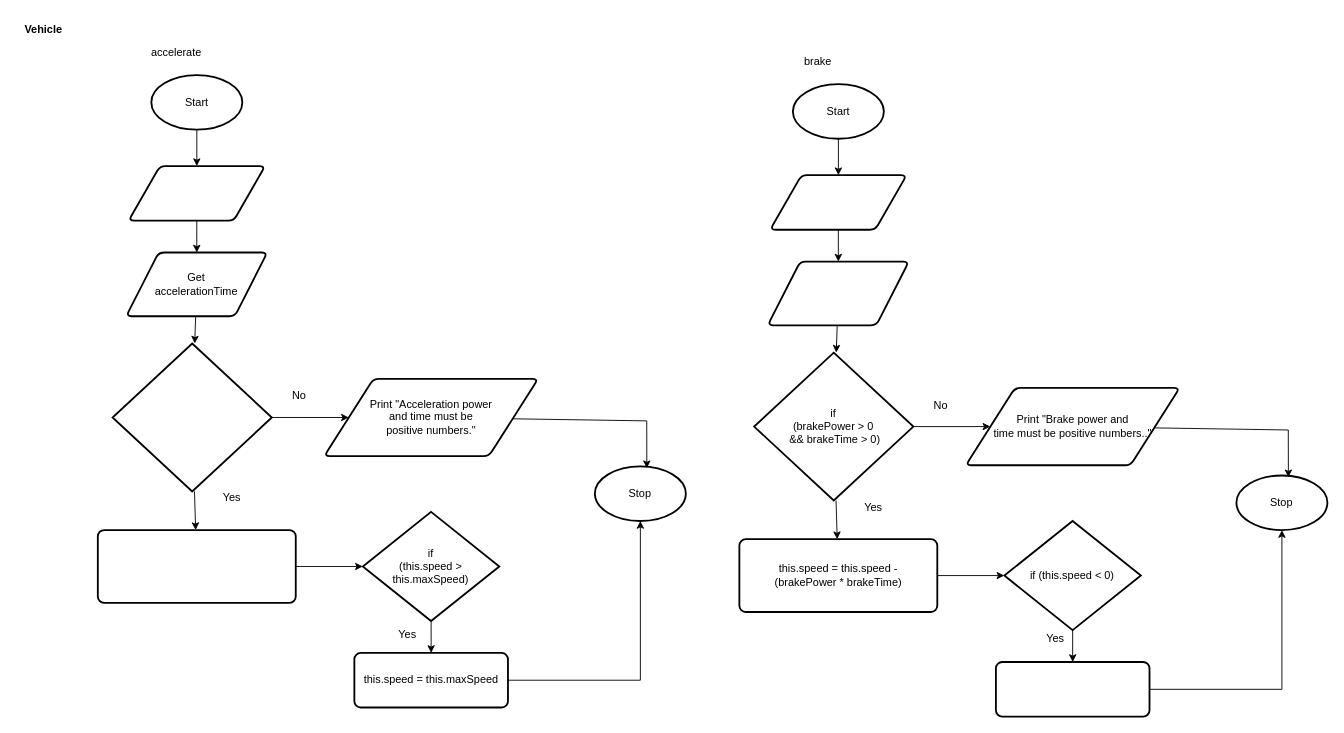
This 1344x733 diagram has some shape labels left out. Here are the shapes that lost their labels. From the top down, the box of each, then its label:
(127, 165, 266, 221): Get accelerationPower
(769, 174, 907, 230): Get brakePower
(766, 260, 909, 326): Get brakeTime
(111, 342, 272, 492): if (accelerationPower > 0 && accelerationTime > 0)
(96, 529, 296, 603): this.speed = (accelerationPower * accelerationTime) + this.speed
(995, 661, 1150, 717): this.speed = 0
